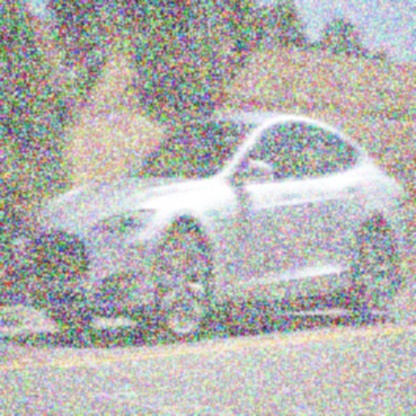Vehicle: (29, 110, 408, 343)
